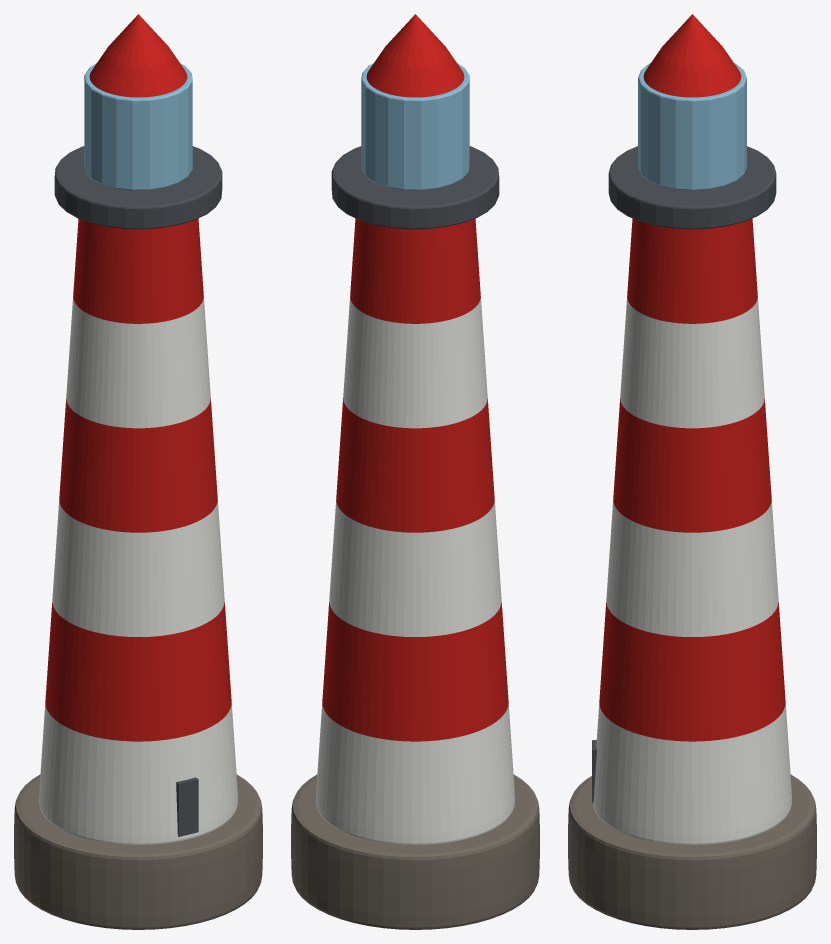
File: lighthouse_good.obj
The picture shows the model from 3 angles, left to right: view 1: azimuth 30°, elevation 25°; view 2: azimuth 150°, elevation 25°; view 3: azimuth 270°, elevation 25°; orthographic projection.
Visible parts, largest first — view 1: tower, base, lantern, gallery, roof, door; view 2: tower, base, lantern, gallery, roof; view 3: tower, base, lantern, gallery, roof.
Boxes of the visible parts, x1,y1,x2,y2 form: tower: (39, 218, 237, 844); base: (14, 774, 262, 929); lantern: (84, 63, 192, 190); gallery: (54, 146, 222, 229); roof: (89, 14, 187, 97); door: (176, 777, 198, 836); tower: (316, 218, 514, 844); base: (291, 774, 539, 929); lantern: (361, 63, 469, 190); gallery: (331, 146, 499, 229); roof: (366, 14, 464, 97); tower: (593, 218, 791, 844); base: (568, 774, 816, 929); lantern: (638, 63, 746, 190); gallery: (608, 146, 776, 229); roof: (643, 14, 741, 97).
Size of the model in its own units: 5.93 by 22.75 by 5.93.
